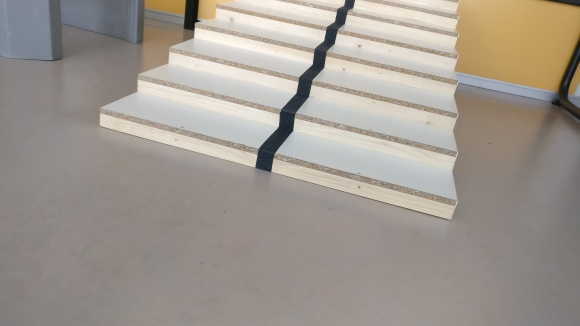stairs: (98, 1, 462, 224)
